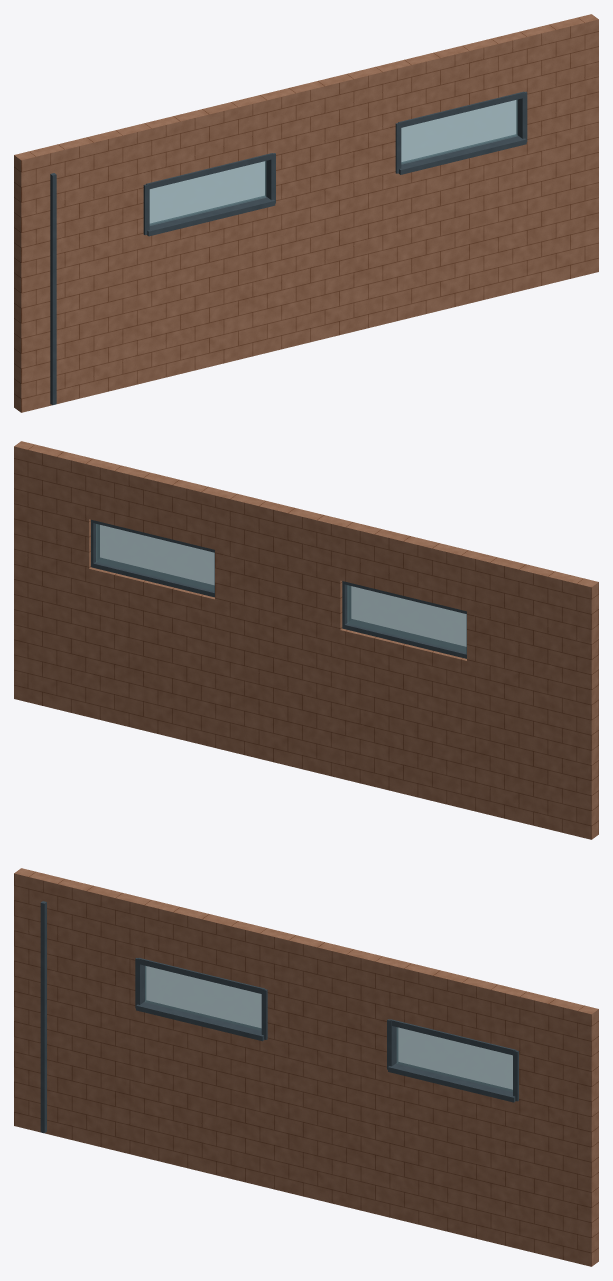
File: PZ_GCR_05_Wall_Side_10m.glb
3 views of the same model, one above another, from view 1: azimuth 30°, elevation 25°; view 2: azimuth 150°, elevation 25°; view 3: azimuth 330°, elevation 25° (orthographic).
Visible parts, largest first — view 1: Wall_Side_10m__Side_Masonry_Lower, Wall_Side_10m__Side_Masonry_Upper, Wall_Side_10m__Clerestory_Masonry_Panel, Wall_Side_10m__Clerestory_Tinted_Window_1, Wall_Side_10m__Clerestory_Tinted_Window_3, Wall_Side_10m__Clerestory_Sill, Wall_Side_10m__Clerestory_Head, Wall_Side_10m__Clerestory_Metal_Frame, Wall_Side_10m__Side_Drainpipe; view 2: Wall_Side_10m__Side_Masonry_Lower, Wall_Side_10m__Side_Masonry_Upper, Wall_Side_10m__Clerestory_Masonry_Panel, Wall_Side_10m__Clerestory_Tinted_Window_1, Wall_Side_10m__Clerestory_Tinted_Window_3, Wall_Side_10m__Clerestory_Sill, Wall_Side_10m__Clerestory_Head, Wall_Side_10m__Clerestory_Metal_Frame; view 3: Wall_Side_10m__Side_Masonry_Lower, Wall_Side_10m__Side_Masonry_Upper, Wall_Side_10m__Clerestory_Masonry_Panel, Wall_Side_10m__Clerestory_Tinted_Window_1, Wall_Side_10m__Clerestory_Tinted_Window_3, Wall_Side_10m__Clerestory_Sill, Wall_Side_10m__Clerestory_Head, Wall_Side_10m__Side_Drainpipe, Wall_Side_10m__Clerestory_Metal_Frame.
Boxes of the visible parts, x1,y1,x2,y2 form: Wall_Side_10m__Side_Masonry_Lower: (14,123,598,412); Wall_Side_10m__Side_Masonry_Upper: (14,14,598,214); Wall_Side_10m__Clerestory_Masonry_Panel: (14,74,598,264); Wall_Side_10m__Clerestory_Tinted_Window_1: (149,161,266,225); Wall_Side_10m__Clerestory_Tinted_Window_3: (401,99,517,164); Wall_Side_10m__Clerestory_Sill: (147,134,526,236); Wall_Side_10m__Clerestory_Head: (146,91,524,188); Wall_Side_10m__Clerestory_Metal_Frame: (143,91,527,235); Wall_Side_10m__Side_Drainpipe: (50,173,56,405); Wall_Side_10m__Side_Masonry_Lower: (14,550,598,839); Wall_Side_10m__Side_Masonry_Upper: (14,441,598,641); Wall_Side_10m__Clerestory_Masonry_Panel: (14,501,598,691); Wall_Side_10m__Clerestory_Tinted_Window_1: (347,585,466,652); Wall_Side_10m__Clerestory_Tinted_Window_3: (96,524,214,591); Wall_Side_10m__Clerestory_Sill: (91,558,466,658); Wall_Side_10m__Clerestory_Head: (91,520,466,613); Wall_Side_10m__Clerestory_Metal_Frame: (91,519,466,658); Wall_Side_10m__Side_Masonry_Lower: (14,977,598,1266); Wall_Side_10m__Side_Masonry_Upper: (14,868,598,1068); Wall_Side_10m__Clerestory_Masonry_Panel: (14,928,598,1118); Wall_Side_10m__Clerestory_Tinted_Window_1: (145,965,261,1030); Wall_Side_10m__Clerestory_Tinted_Window_3: (396,1027,512,1091); Wall_Side_10m__Clerestory_Sill: (136,1000,515,1102); Wall_Side_10m__Clerestory_Head: (137,958,516,1055); Wall_Side_10m__Side_Drainpipe: (40,901,46,1133); Wall_Side_10m__Clerestory_Metal_Frame: (135,958,518,1101).
Bounding box in the file's own units: 10 × 4.18 × 0.3.
3 materials, 3 textured.
